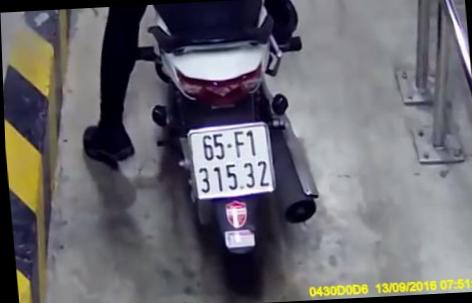LP: (184, 121, 275, 199)
